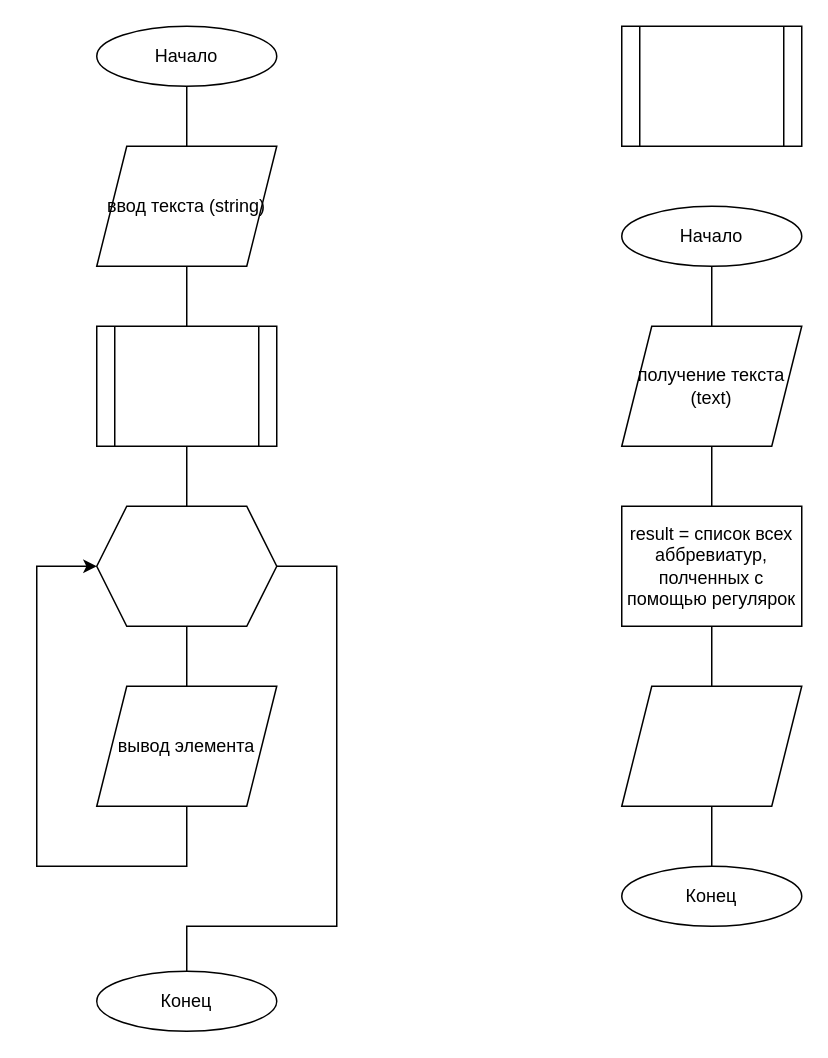
The diagram is 828 pixels wide and 1058 high, and some of its shapes have lost their labels. Here are the shapes that lost their labels. From the top down, the box of each, then its label:
(620, 25, 802, 146): find_abbrs(text)
(95, 325, 277, 446): result_abbrs = find_abbrs(string)
(95, 505, 277, 626): перебор элементов из result_abbrs
(620, 685, 802, 806): возвращаем result
